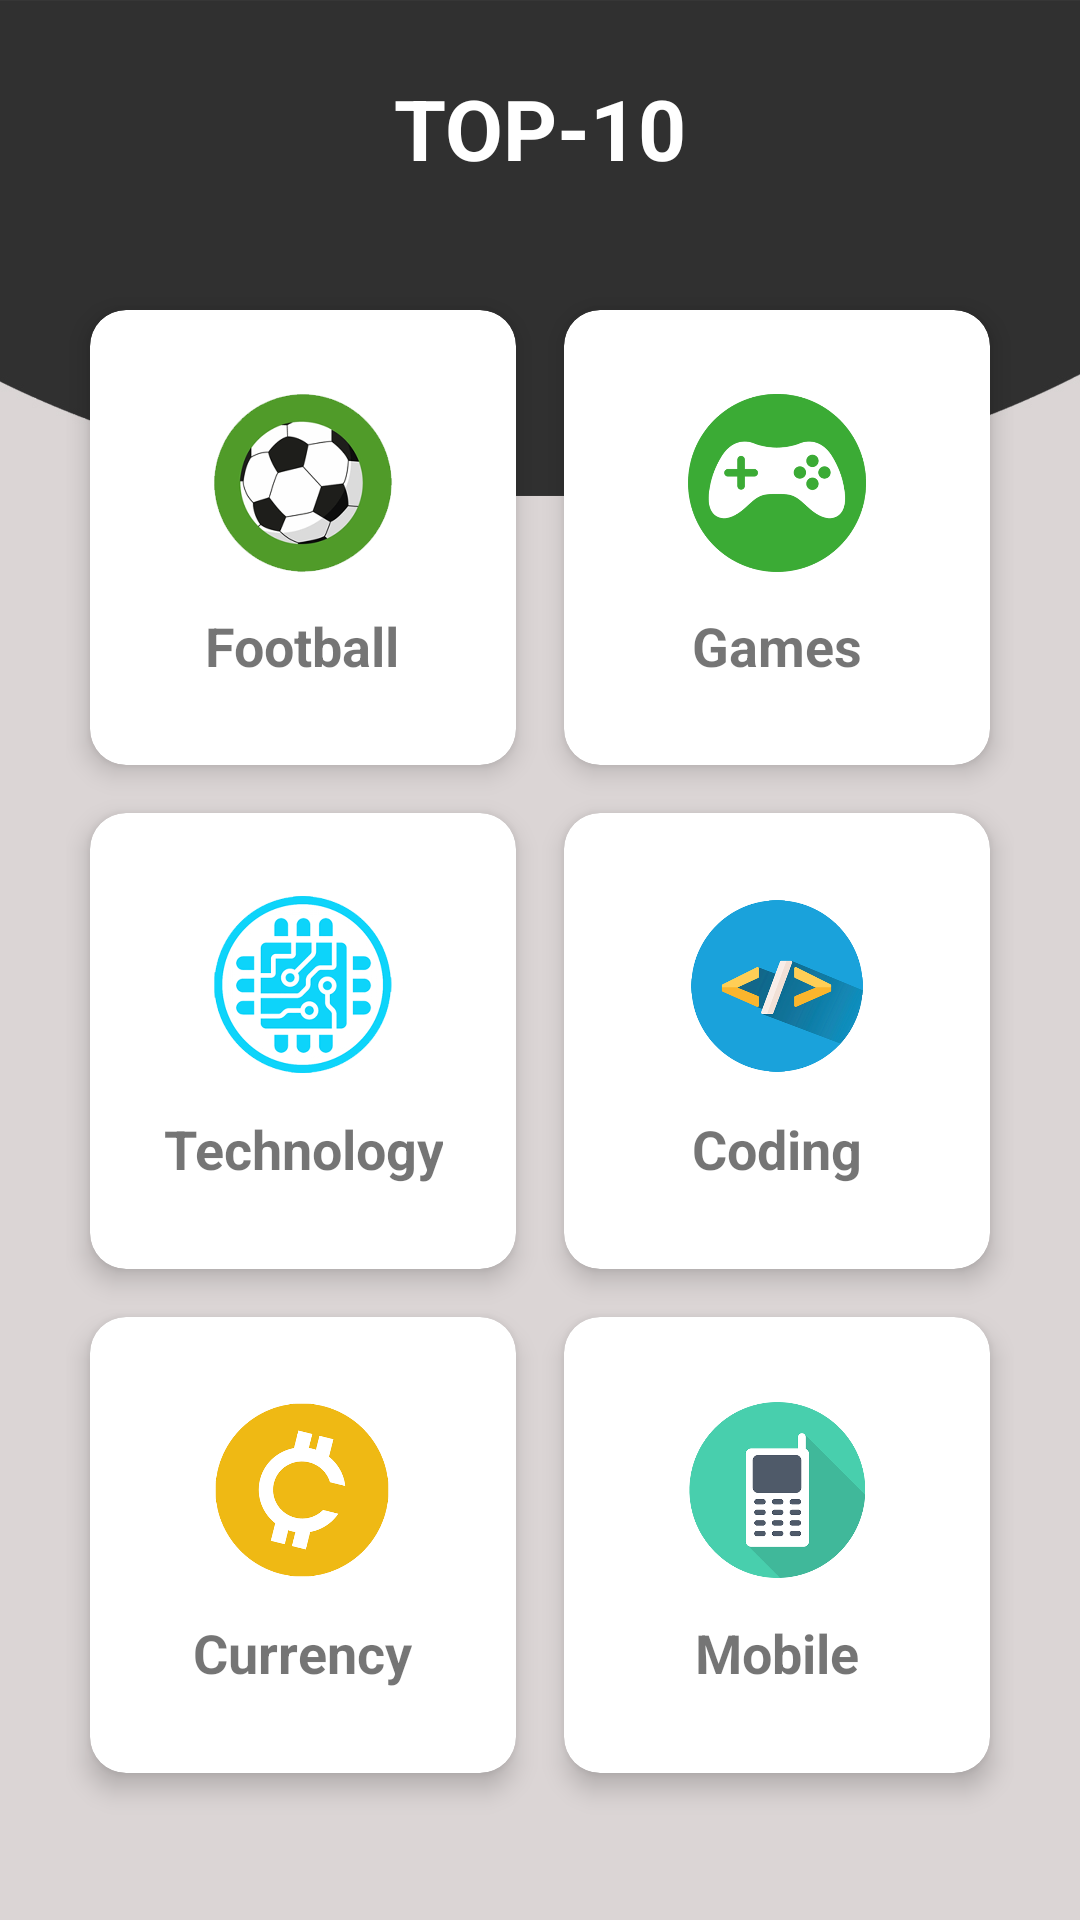

Icons on this 1080*1920 Android screen, each with the point to tap as (x,y):
cuurency: (302,1490)
lang: (777,986)
